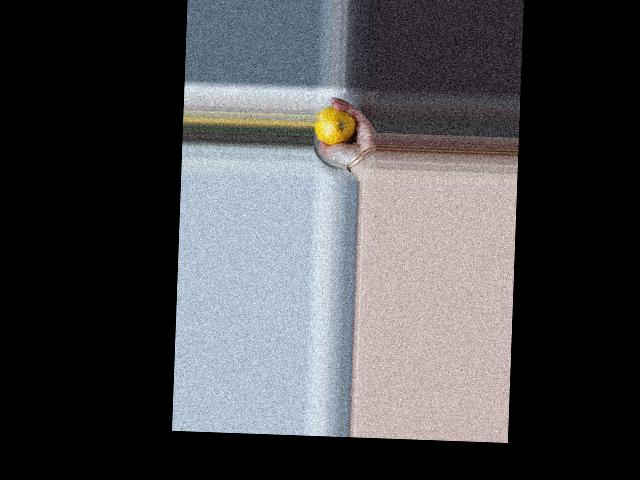lemon: (315, 105, 356, 143)
